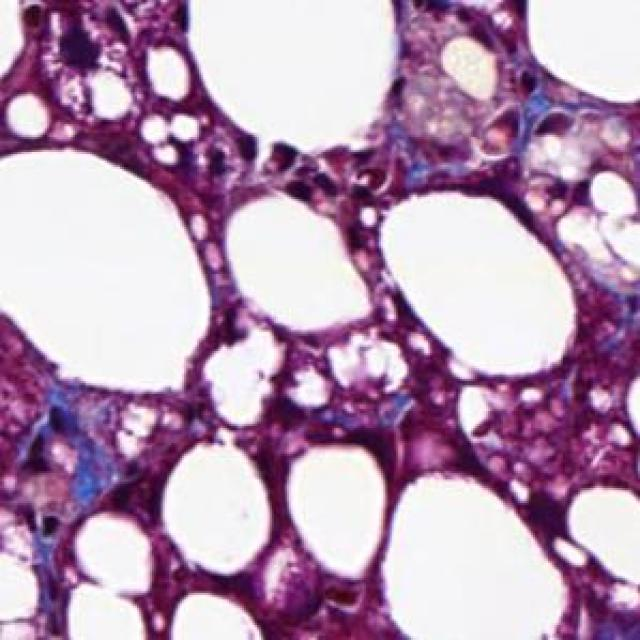inflammation: (21, 0, 146, 71), (4, 396, 92, 484), (272, 143, 364, 199), (176, 135, 261, 188), (492, 101, 576, 141)
